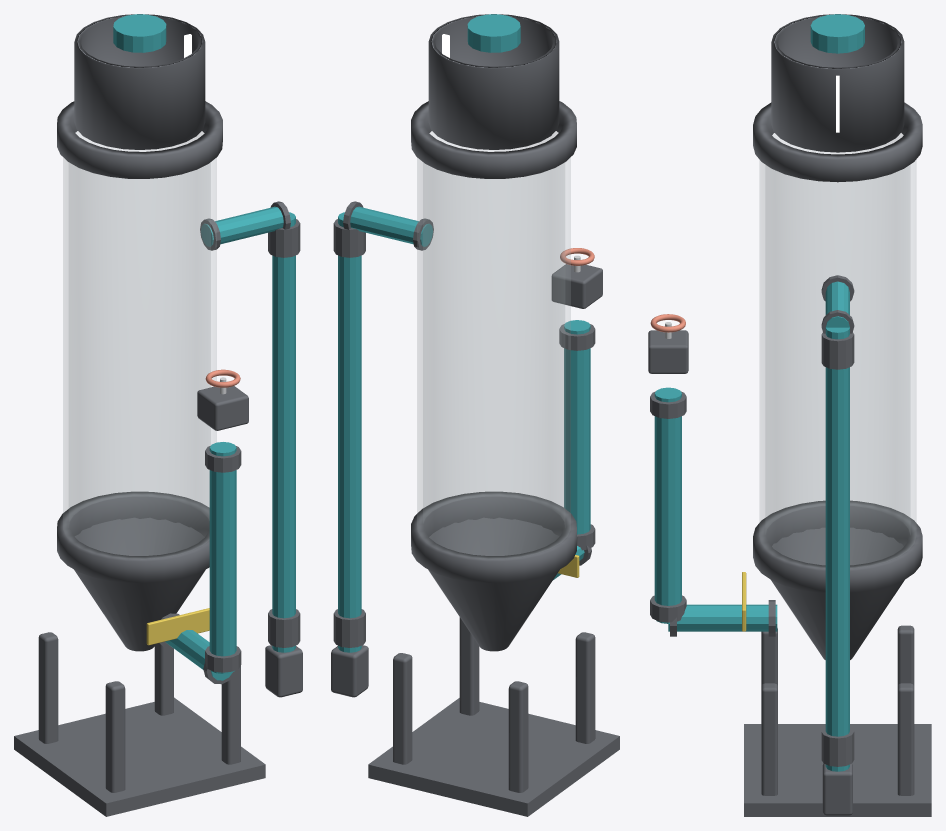
Rendered from public-aquarium-and-marine-centre-protein-skimmer-colu-c38bf599__34176.glb.
3 renders of one model, left to right at view 1: azimuth 30°, elevation 25°; view 2: azimuth 150°, elevation 25°; view 3: azimuth 270°, elevation 25°, orthographic.
Visible parts, largest first — view 1: protein-skimmer-column; view 2: protein-skimmer-column; view 3: protein-skimmer-column.
Part boxes in pixels (box(x1,y1,x2,y2)): protein-skimmer-column: box(14, 14, 302, 816); protein-skimmer-column: box(331, 14, 619, 816); protein-skimmer-column: box(648, 14, 931, 816).
Bounding box in the file's own units: 0.924 × 2.74 × 0.9364.
